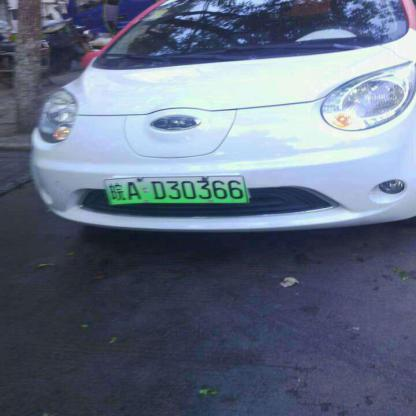lp: (104, 177, 247, 204)
